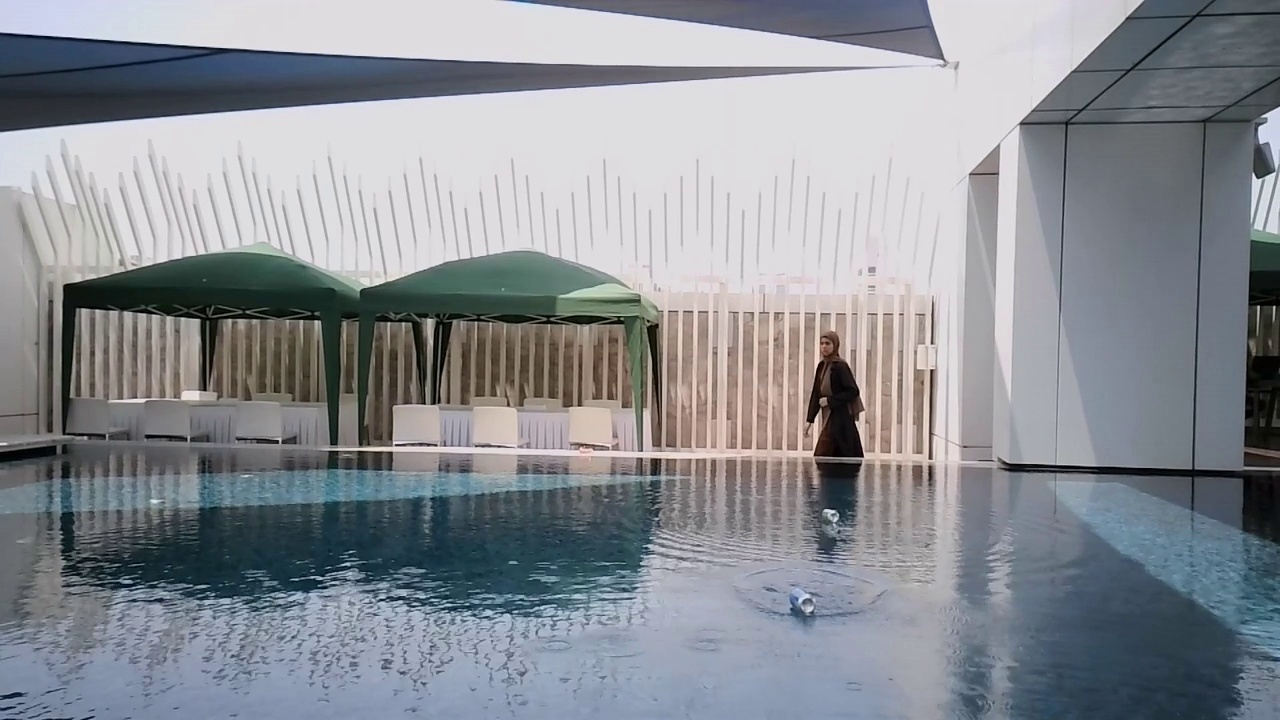debris: (788, 585, 816, 618), (820, 505, 842, 524), (575, 443, 594, 459)
